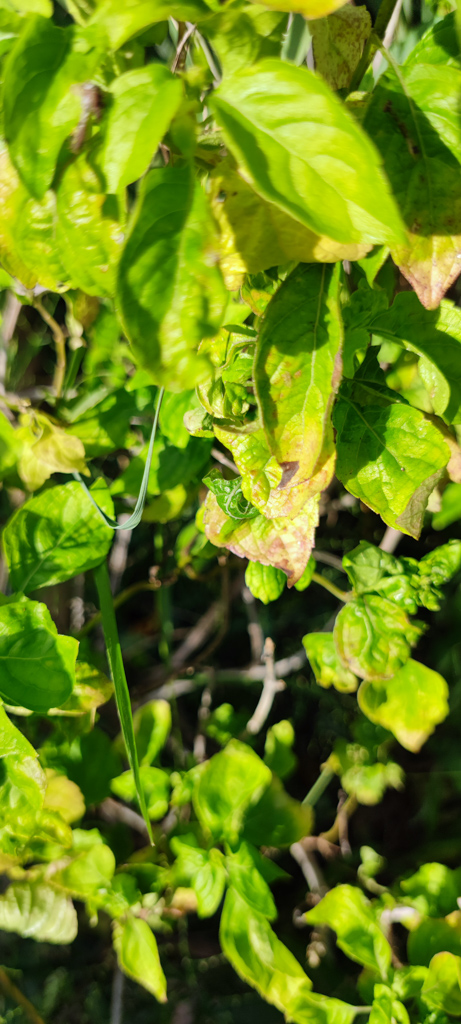Ragged Stunt Disease: (335, 537, 455, 692), (193, 353, 254, 434), (201, 473, 269, 528)
